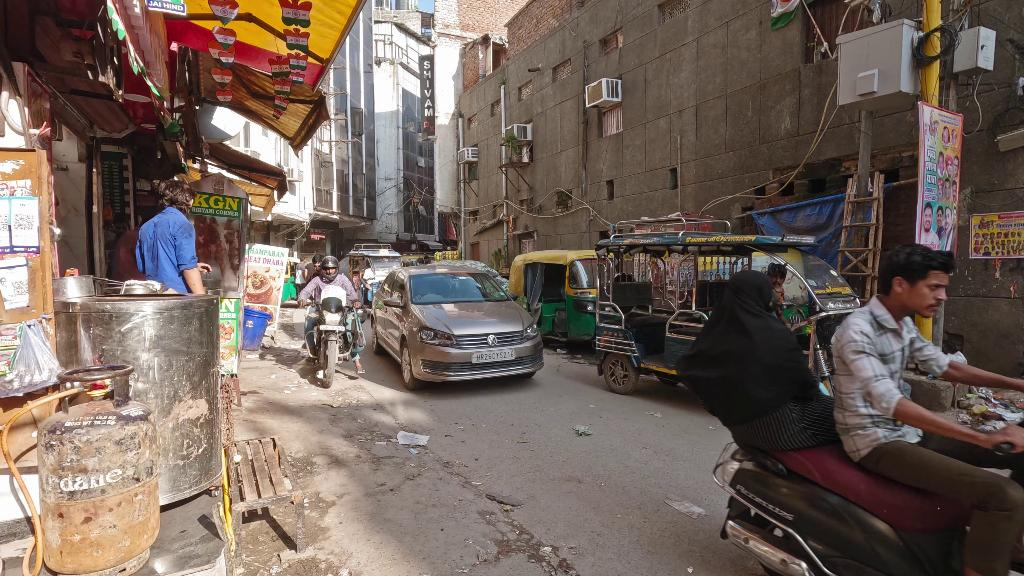garbage: (0, 322, 63, 400), (396, 429, 431, 448)
